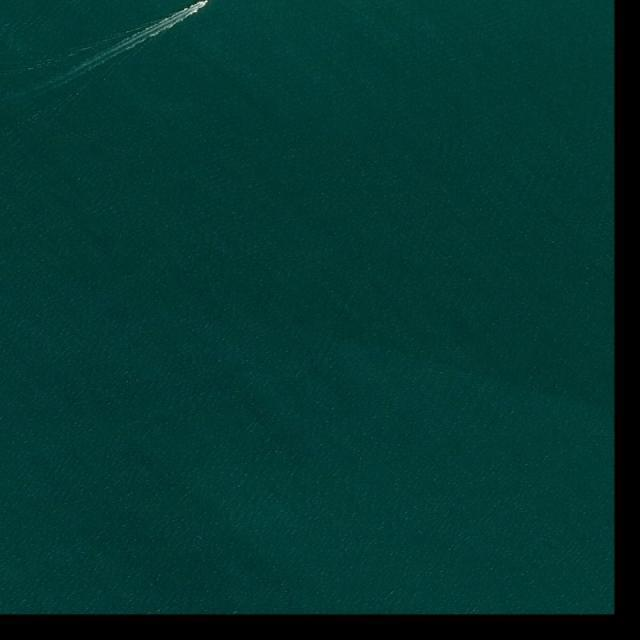ship: (203, 0, 210, 4)
